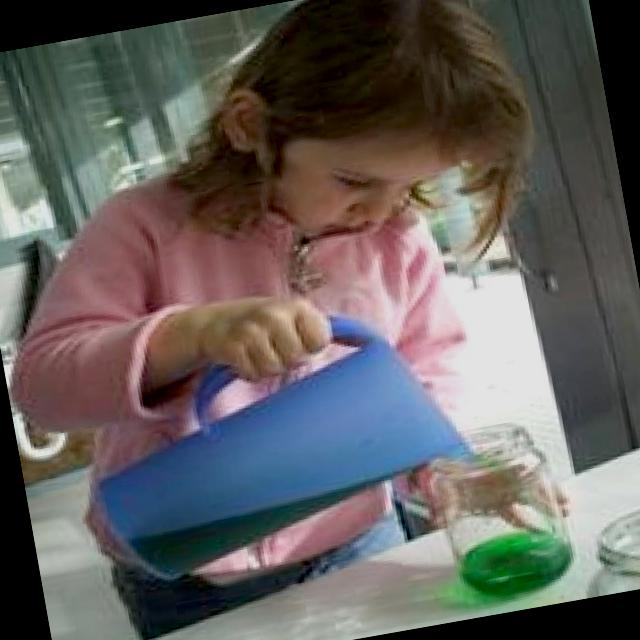no_vest: (26, 112, 492, 579)
